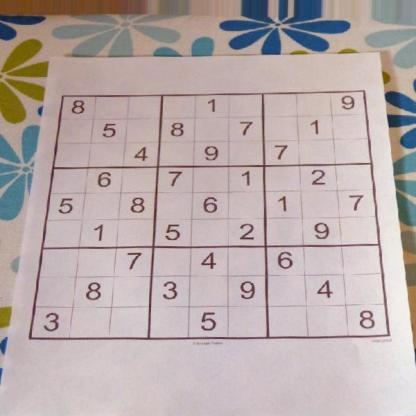sudoku: (27, 88, 393, 341)
